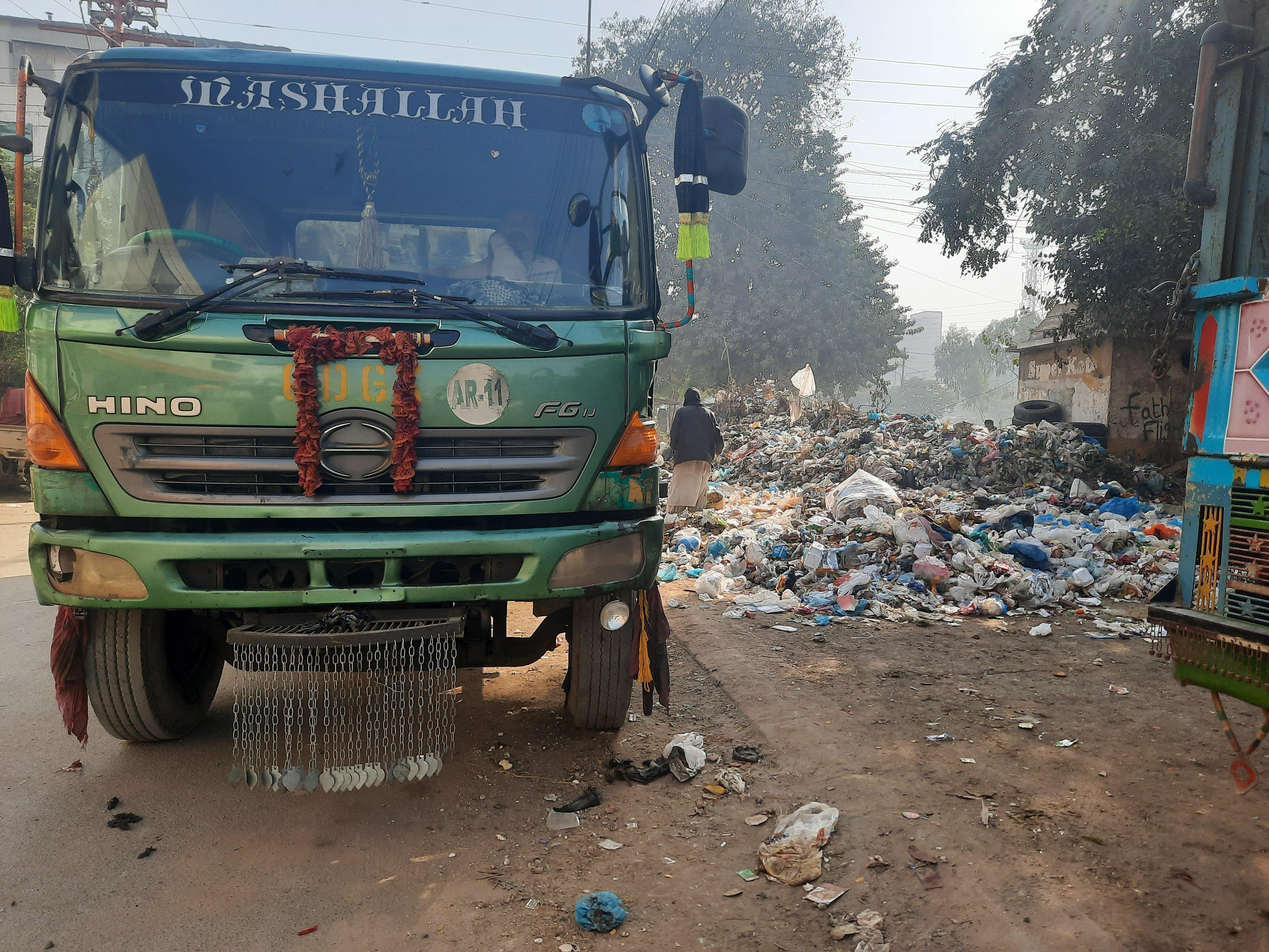garbage: (639, 373, 1196, 664)
